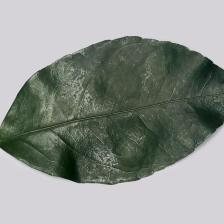healthy: (95, 36, 224, 208)
